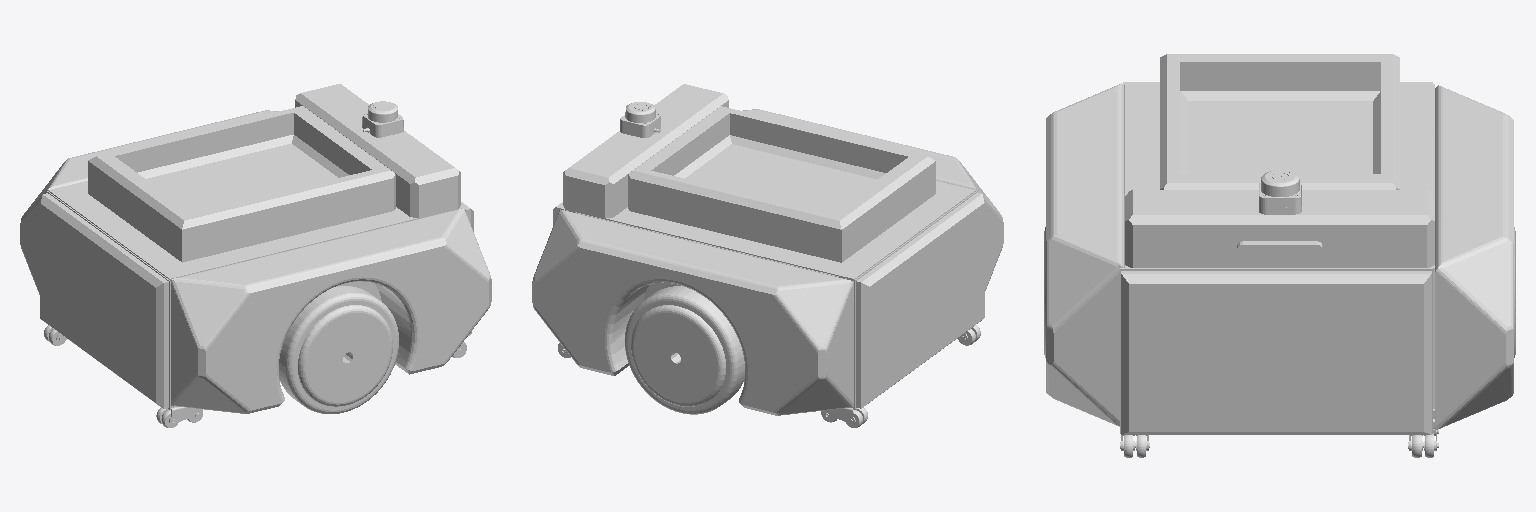
URDF robot description (asimov_urdf):
<?xml version="1.0" encoding="utf-8"?>
<!-- This URDF was automatically created by SolidWorks to URDF Exporter! Originally created by Stephen Brawner (brawner@gmail.com) 
     Commit Version:   Build Version: 1.6.9801.18994
     For more information, please see http://wiki.ros.org/sw_urdf_exporter -->
<robot name="asimov_urdf">
  <link name="base_link">
    <inertial>
      <origin xyz="0.0167978212863966 -0.000528756192695268 0.156889614384677" rpy="0 0 0"/>
      <mass value="31.4187714799116"/>
      <inertia ixx="0.265032251031475" ixy="-0.000330023239196543" ixz="-0.00501661770283501" iyy="0.904980552545625" iyz="6.96584602996623E-05" izz="0.976104635486127"/>
    </inertial>
    <visual>
      <origin xyz="0 0 0" rpy="0 0 0"/>
      <geometry>
        <mesh filename="package://asimov_urdf/meshes/base_link.STL"/>
      </geometry>
      <material name="">
        <color rgba="0.894117647058823 0.894117647058823 0.894117647058823 1"/>
      </material>
    </visual>
    <collision>
      <origin xyz="0 0 0" rpy="0 0 0"/>
      <geometry>
        <mesh filename="package://asimov_urdf/meshes/base_link.STL"/>
      </geometry>
    </collision>
  </link>
  <link name="left_wheel_link">
    <inertial>
      <origin xyz="0 -0.0356054190201918 -2.22044604925031E-16" rpy="0 0 0"/>
      <mass value="2.28040470238103"/>
      <inertia ixx="0.00682368781185792" ixy="2.84574274305576E-18" ixz="-1.10740971802266E-33" iyy="0.0120597583083159" iyz="-1.94678697161972E-18" izz="0.00682368781185792"/>
    </inertial>
    <visual>
      <origin xyz="0 0 0" rpy="0 0 0"/>
      <geometry>
        <mesh filename="package://asimov_urdf/meshes/left_wheel_link.STL"/>
      </geometry>
      <material name="">
        <color rgba="0.894117647058823 0.894117647058823 0.894117647058823 1"/>
      </material>
    </visual>
    <collision>
      <origin xyz="0 0 0" rpy="0 0 0"/>
      <geometry>
        <mesh filename="package://asimov_urdf/meshes/left_wheel_link.STL"/>
      </geometry>
    </collision>
  </link>
  <joint name="left_wheel_joint" type="continuous">
    <origin xyz="0 0.3038 0.0670" rpy="0 0 0"/>
    <parent link="base_link"/>
    <child link="left_wheel_link"/>
    <axis xyz="0 1 0"/>
  </joint>
  <link name="right_wheel_link">
    <inertial>
      <origin xyz="0 0.0356054190201915 -1.11022302462516E-16" rpy="0 0 0"/>
      <mass value="2.28040470238103"/>
      <inertia ixx="0.00682368781185792" ixy="7.2192236222997E-19" ixz="-9.62964972193618E-35" iyy="0.0120597583083159" iyz="-2.07421170631612E-19" izz="0.00682368781185792"/>
    </inertial>
    <visual>
      <origin xyz="0 0 0" rpy="0 0 0"/>
      <geometry>
        <mesh filename="package://asimov_urdf/meshes/right_wheel_link.STL"/>
      </geometry>
      <material name="">
        <color rgba="0.894117647058823 0.894117647058823 0.894117647058823 1"/>
      </material>
    </visual>
    <collision>
      <origin xyz="0 0 0" rpy="0 0 0"/>
      <geometry>
        <mesh filename="package://asimov_urdf/meshes/right_wheel_link.STL"/>
      </geometry>
    </collision>
  </link>
  <joint name="right_wheel_joint" type="continuous">
    <origin xyz="0 -0.3038 0.0670" rpy="0 0 0"/>
    <parent link="base_link"/>
    <child link="right_wheel_link"/>
    <axis xyz="0 1 0"/>
  </joint>
  <link name="lidar_link">
    <inertial>
      <origin xyz="-7.34964820929829E-05 4.06346423525994E-06 -0.00464975247502419" rpy="0 0 0"/>
      <mass value="0.102589576047447"/>
      <inertia ixx="3.51045865003097E-05" ixy="8.8587647840436E-09" ixz="-9.89172081766482E-08" iyy="3.53652172137179E-05" iyz="6.278173646366E-09" izz="4.35685603562644E-05"/>
    </inertial>
    <visual>
      <origin xyz="0 0 0" rpy="0 0 0"/>
      <geometry>
        <mesh filename="package://asimov_urdf/meshes/lidar_link.STL"/>
      </geometry>
      <material name="">
        <color rgba="0.894117647058823 0.894117647058823 0.894117647058823 1"/>
      </material>
    </visual>
    <collision>
      <origin xyz="0 0 0" rpy="0 0 0"/>
      <geometry>
        <mesh filename="package://asimov_urdf/meshes/lidar_link.STL"/>
      </geometry>
    </collision>
  </link>
  <joint name="lidar_joint" type="fixed">
    <origin xyz="0.2422 0.00048444 0.3271" rpy="0 0 0"/>
    <parent link="base_link"/>
    <child link="lidar_link"/>
    <axis xyz="0 0 0"/>
  </joint>
  <link name="camera_link">
    <inertial>
      <origin xyz="-0.214132216729043 -0.000482867643557483 -0.00248174031118009" rpy="0 0 0"/>
      <mass value="7.64040114069512"/>
      <inertia ixx="0.090789644233821" ixy="-0.000330018355603488" ixz="-0.00501650866074714" iyy="0.21299869378418" iyz="6.92596949342071E-05" izz="0.297151734154236"/>
    </inertial>
    <visual>
      <origin xyz="0 0 0" rpy="0 0 0"/>
      <geometry>
        <mesh filename="package://asimov_urdf/meshes/camera_link.STL"/>
      </geometry>
      <material name="">
        <color rgba="0.894117647058823 0.894117647058823 0.894117647058823 1"/>
      </material>
    </visual>
    <collision>
      <origin xyz="0 0 0" rpy="0 0 0"/>
      <geometry>
        <mesh filename="package://asimov_urdf/meshes/camera_link.STL"/>
      </geometry>
    </collision>
  </link>
  <joint name="camera_joint" type="fixed">
    <origin xyz="0.28 0 0.263" rpy="0 0 0"/>
    <parent link="base_link"/>
    <child link="camera_link"/>
    <axis xyz="0 0 0"/>
  </joint>
  <link name="imu_link">
    <inertial>
      <origin xyz="0.0659913503395884 -0.000482867643557483 0.0285182596888198" rpy="0 0 0"/>
      <mass value="7.64040114069512"/>
      <inertia ixx="0.090789644233821" ixy="-0.000330018355603489" ixz="-0.00501650866074714" iyy="0.212998693784181" iyz="6.92596949342072E-05" izz="0.297151734154236"/>
    </inertial>
    <visual>
      <origin xyz="0 0 0" rpy="0 0 0"/>
      <geometry>
        <mesh filename="package://asimov_urdf/meshes/imu_link.STL"/>
      </geometry>
      <material name="">
        <color rgba="0.894117647058823 0.894117647058823 0.894117647058823 1"/>
      </material>
    </visual>
    <collision>
      <origin xyz="0 0 0" rpy="0 0 0"/>
      <geometry>
        <mesh filename="package://asimov_urdf/meshes/imu_link.STL"/>
      </geometry>
    </collision>
  </link>
  <joint name="imu_joint" type="fixed">
    <origin xyz="-0.00012357 0 0.232" rpy="0 0 0"/>
    <parent link="base_link"/>
    <child link="imu_link"/>
    <axis xyz="0 0 0"/>
  </joint>
  <!-- Wheel drive + odometry + joint states -->
<gazebo>
  <plugin filename="gz-sim-diff-drive-system" name="gz::sim::systems::DiffDrive">
    <left_joint>left_wheel_joint</left_joint>
    <right_joint>right_wheel_joint</right_joint>
    <wheel_separation>0.51</wheel_separation>
    <wheel_radius>0.107</wheel_radius>
    <topic>cmd_vel</topic>
    <odom_topic>odom</odom_topic>
    <tf_topic>tf</tf_topic>
    <frame_id>odom</frame_id>
    <child_frame_id>base_link</child_frame_id>
    <odom_publisher_frequency>30</odom_publisher_frequency>
    <max_linear_acceleration>1.0</max_linear_acceleration>
  </plugin>
  <plugin filename="gz-sim-joint-state-publisher-system"
          name="gz::sim::systems::JointStatePublisher">
    <topic>joint_states</topic>
  </plugin>
</gazebo>

<!-- Lidar (RPLIDAR C1-like: 12 m, 10 Hz) -->
<gazebo reference="lidar_link">
  <sensor name="lidar" type="gpu_lidar">
    <topic>scan</topic>
    <gz_frame_id>lidar_link</gz_frame_id>
    <update_rate>10</update_rate>
    <always_on>true</always_on>
    <visualize>true</visualize>
    <lidar>
      <scan>
        <horizontal>
          <samples>360</samples><resolution>1</resolution>
          <min_angle>-3.14159</min_angle><max_angle>3.14159</max_angle>
        </horizontal>
      </scan>
      <range><min>0.05</min><max>12.0</max><resolution>0.01</resolution></range>
      <noise><type>gaussian</type><mean>0.0</mean><stddev>0.01</stddev></noise>
    </lidar>
  </sensor>
</gazebo>

<!-- IMU -->
<gazebo reference="imu_link">
  <sensor name="imu_sensor" type="imu">
    <topic>imu</topic>
    <gz_frame_id>imu_link</gz_frame_id>
    <update_rate>100</update_rate>
    <always_on>true</always_on>
  </sensor>
</gazebo> 
</robot>

--- Render facts (derived) ---
3 views of the same robot in one strip: view 1: azimuth 30°, elevation 25°; view 2: azimuth 150°, elevation 25°; view 3: azimuth 270°, elevation 25° (orthographic).
Model asimov_urdf with 6 links and 5 joints (2 continuous, 3 fixed), rooted at base_link, posed every joint at zero.
Links seen in each view (by area): view 1: base_link, right_wheel_link, camera_link; view 2: base_link, left_wheel_link, camera_link; view 3: base_link, camera_link, imu_link.
Link boxes in pixels (left/top/right/bottom): base_link: left=20, top=84, right=491, bottom=427; right_wheel_link: left=279, top=286, right=398, bottom=413; camera_link: left=50, top=110, right=406, bottom=277; base_link: left=532, top=84, right=1003, bottom=427; left_wheel_link: left=625, top=286, right=744, bottom=414; camera_link: left=630, top=157, right=972, bottom=277; base_link: left=1046, top=56, right=1513, bottom=457; camera_link: left=1125, top=54, right=1434, bottom=189; imu_link: left=1180, top=91, right=1380, bottom=173.
Size in the robot's own frame: 0.604 by 0.6076 by 0.3856 metres.
Meshes: 6 distinct files referenced, 6 mesh visuals loaded (6 binary STL).
